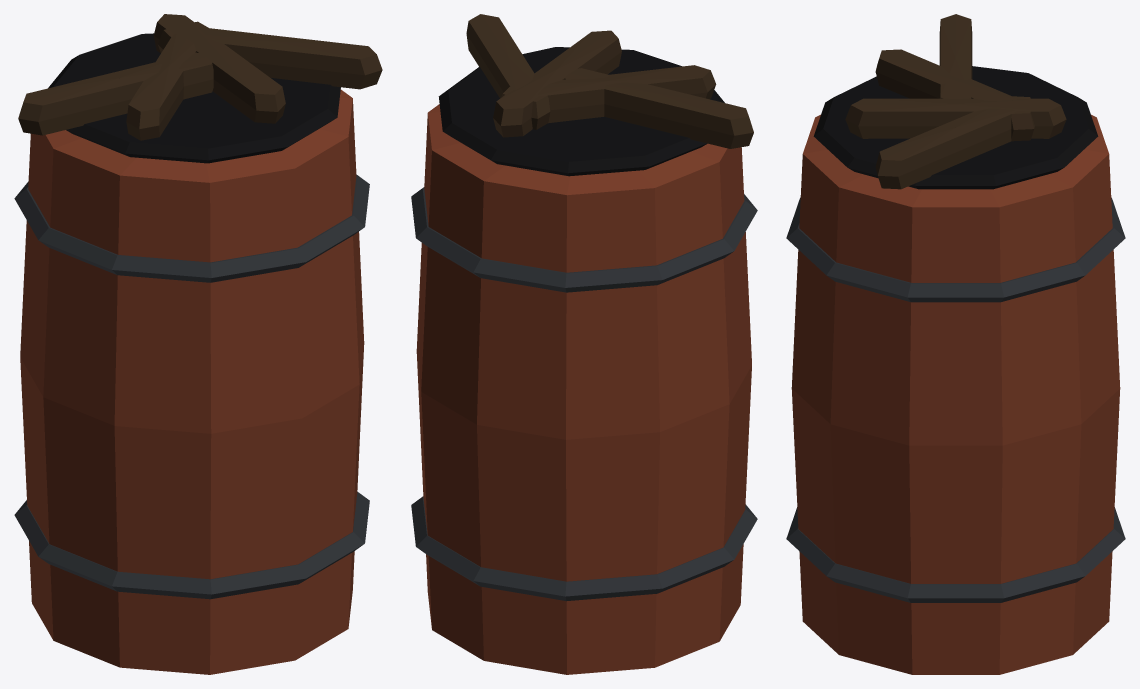
The model's file is r-barrel.glb.
3 views of the same model, side by side, from view 1: azimuth 30°, elevation 25°; view 2: azimuth 150°, elevation 25°; view 3: azimuth 270°, elevation 25° (orthographic). The views are drawn at different scales.
Parts seen in each view (by area): view 1: p; view 2: p; view 3: p.
Boxes of the visible parts, x1,y1,x2,y2 form: p: (14, 14, 382, 674); p: (411, 14, 757, 674); p: (786, 14, 1125, 674).
Bounding box in the file's own units: 0.6474 × 1.07 × 0.6137.
